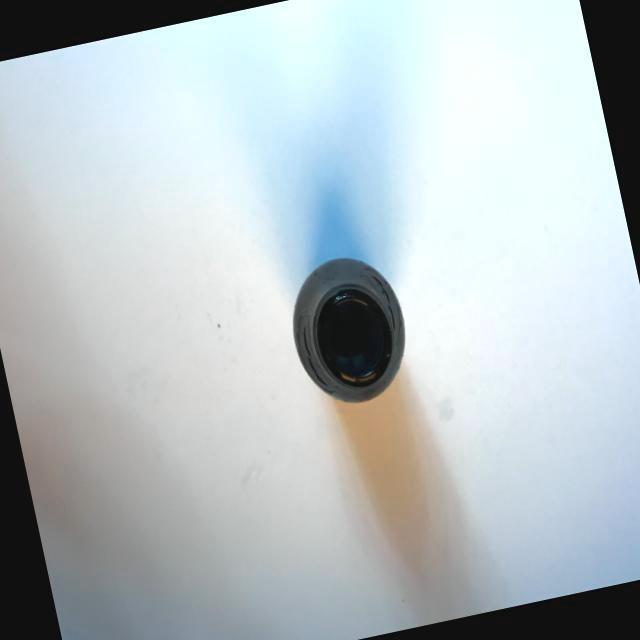glass: (245, 233, 446, 451)
